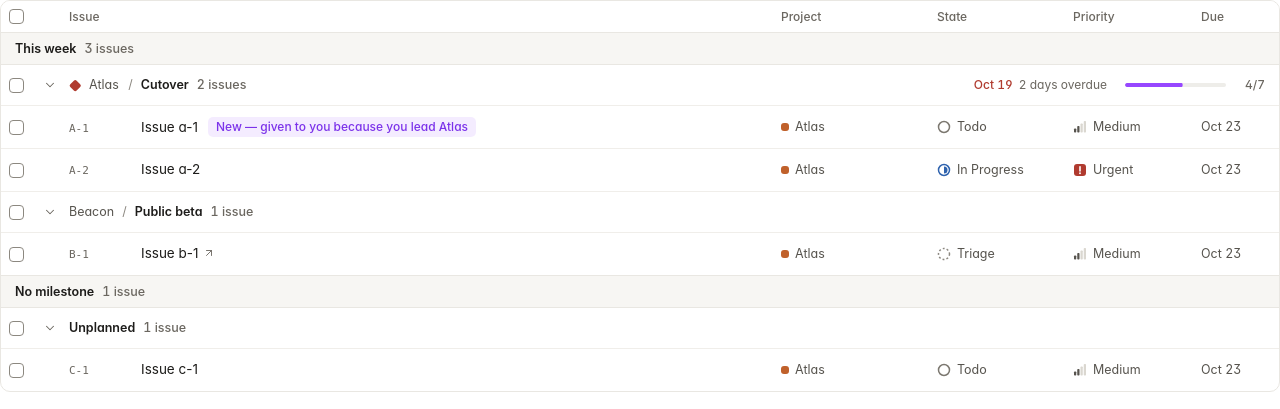
Scenario: TaskGroupTable selection › group and header checkboxes are tri-state over the shown rows
Later steps or results of the test are not shown.
Step 1. Click the checkbox named "Select A-1" → coordinates (16, 127), box left=8, top=113, right=24, bottom=141
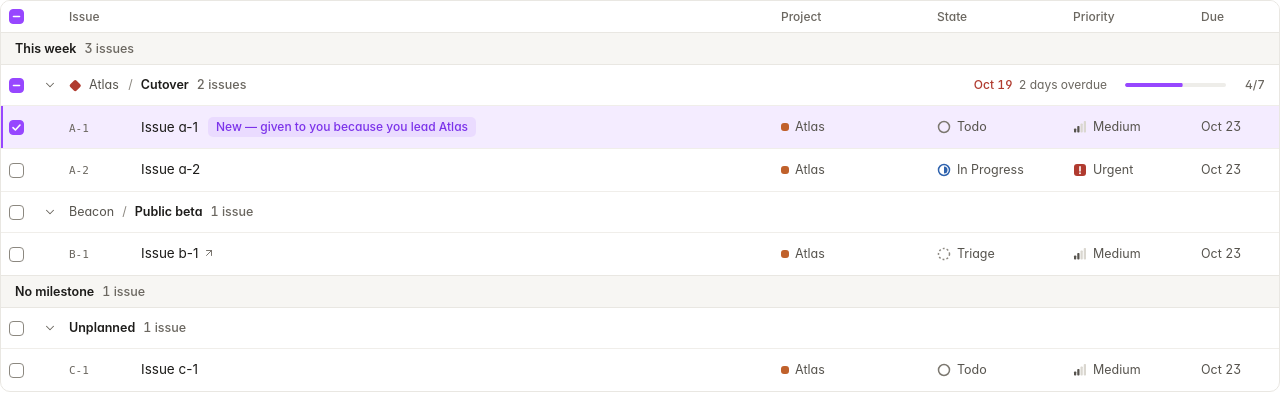
// A click on a mixed box selects the rest of the group.
Step 2. Click the checkbox named "Select the 2 shown issues in Cutover" → coordinates (16, 85), box left=8, top=71, right=24, bottom=99
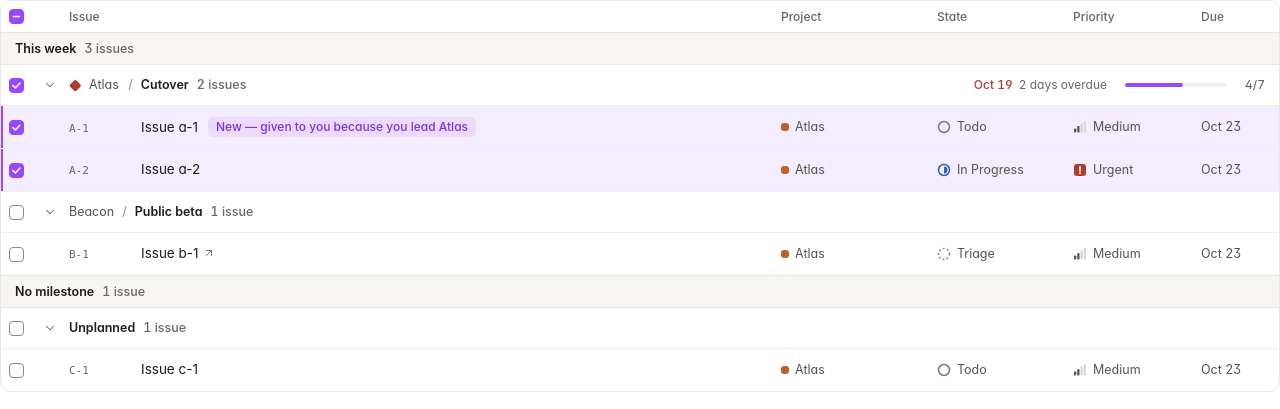
Expected: the checkbox named "Select the 2 shown issues in Cutover" is checked, left=8, top=71, right=24, bottom=99
Step 3. Click the checkbox named "Select all 4 shown issues" → coordinates (16, 16), box left=8, top=2, right=24, bottom=30
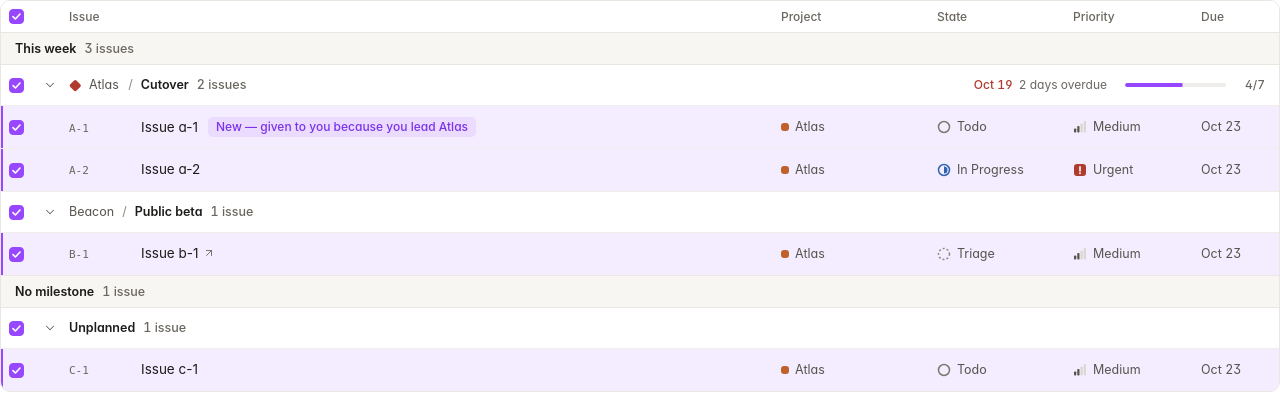
Expected: the checkbox named "Select all 4 shown issues" is checked, left=8, top=2, right=24, bottom=30
